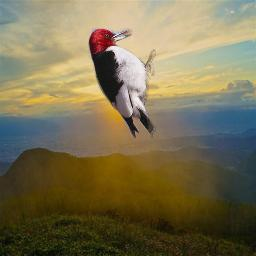Woodpecker: (88, 28, 156, 138)
